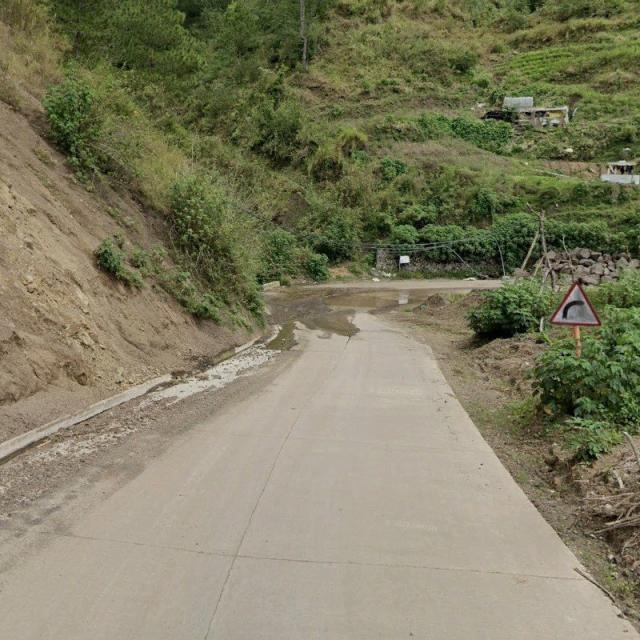warn_right_curve: (547, 282, 602, 327)
